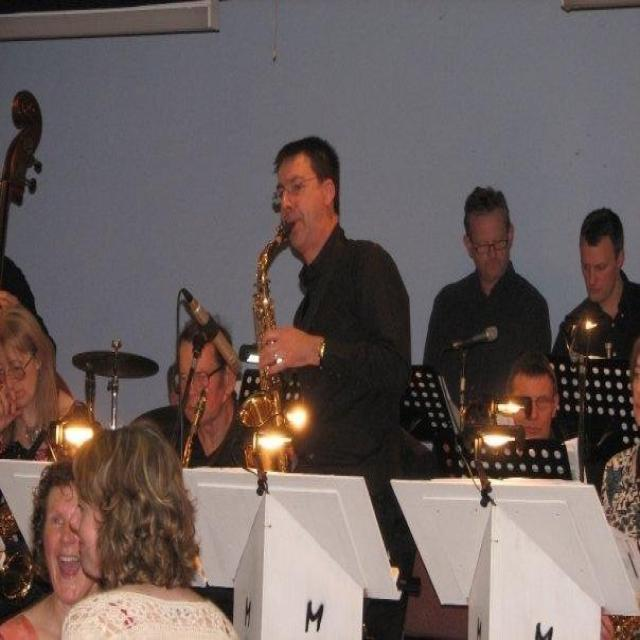saxophone: (242, 220, 300, 472)
